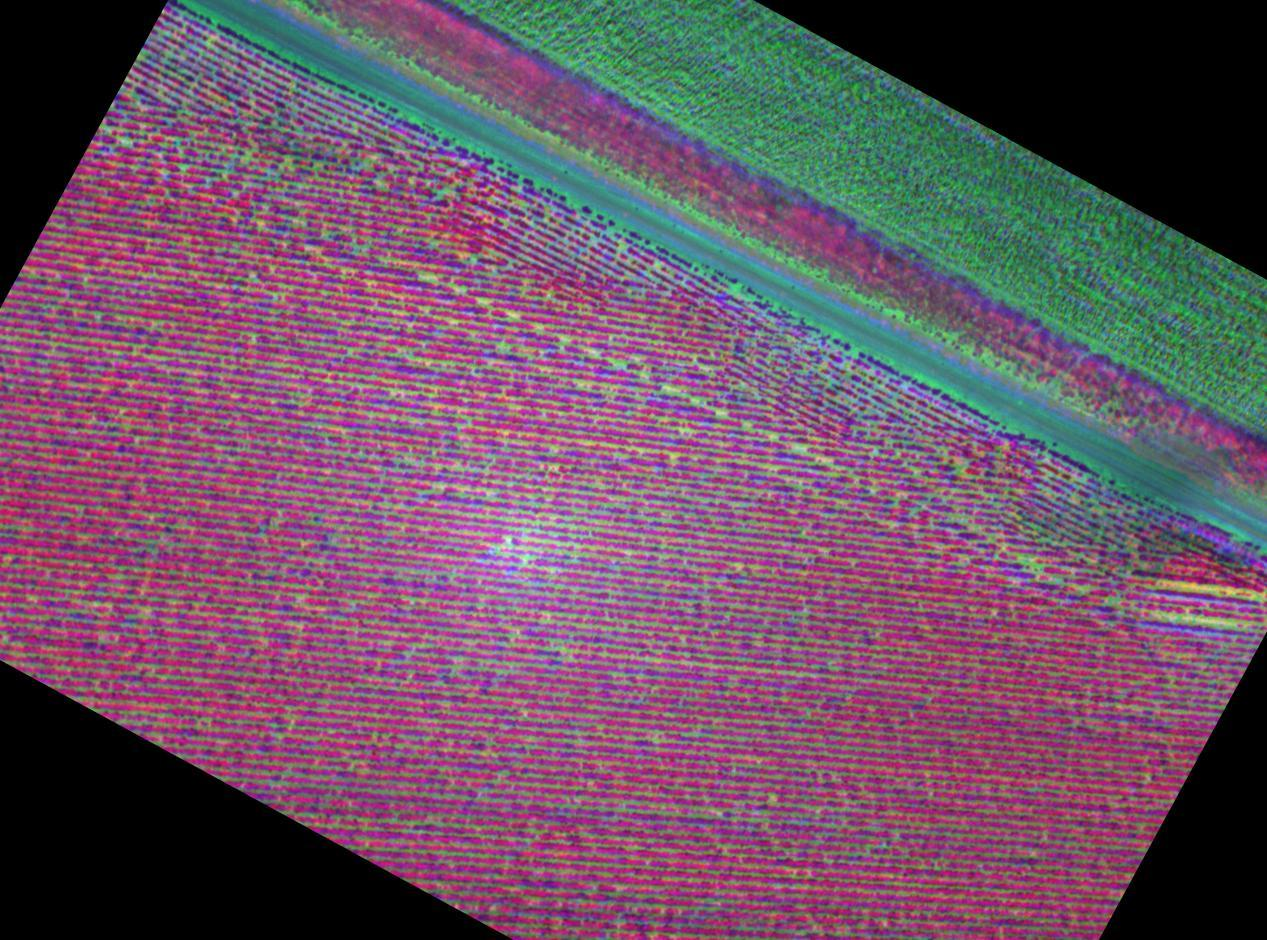dc: (791, 444, 804, 455), (665, 384, 678, 394), (717, 409, 727, 421), (560, 334, 570, 345), (1106, 596, 1116, 607), (613, 359, 625, 368), (498, 344, 508, 353), (239, 156, 250, 164), (1017, 555, 1028, 563)
